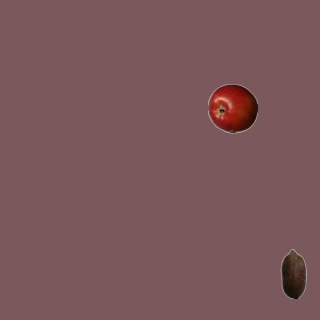Apple Braeburn: (207, 83, 257, 133)
Nut Pecan: (268, 248, 318, 298)
